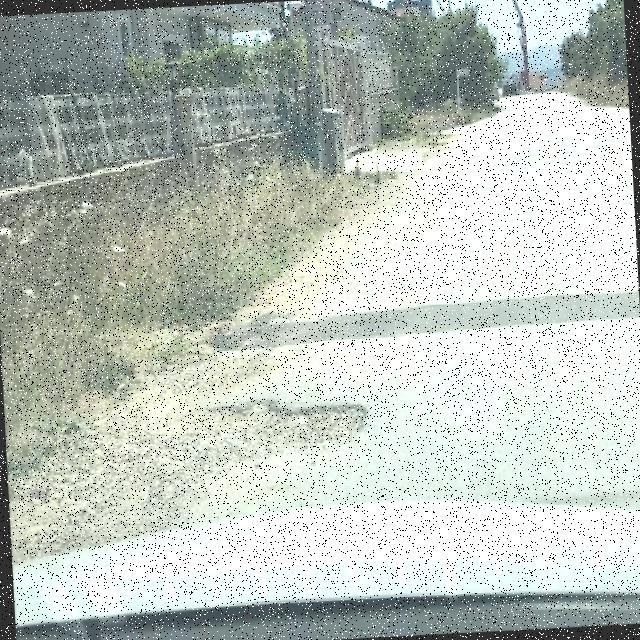Pothole: (169, 404, 368, 496)
